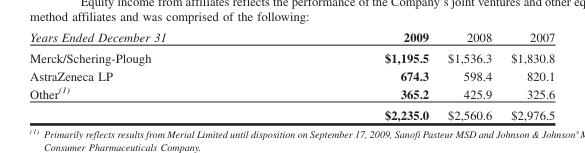table: (29, 28, 554, 121)
table column: (29, 28, 274, 121), (274, 28, 437, 121), (437, 28, 500, 121), (500, 28, 554, 121)
table column header: (29, 28, 554, 46)
table row: (29, 46, 554, 66), (29, 83, 554, 103), (29, 28, 554, 46), (29, 103, 554, 121), (29, 66, 554, 83)
